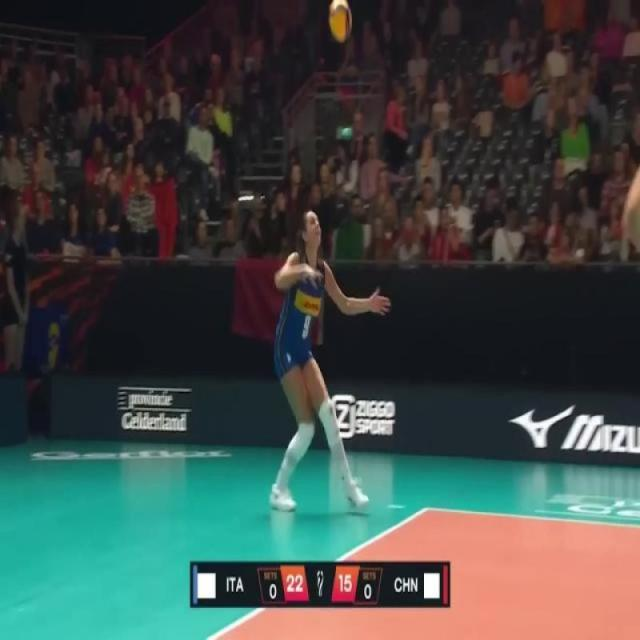volleyball: (328, 0, 352, 44)
